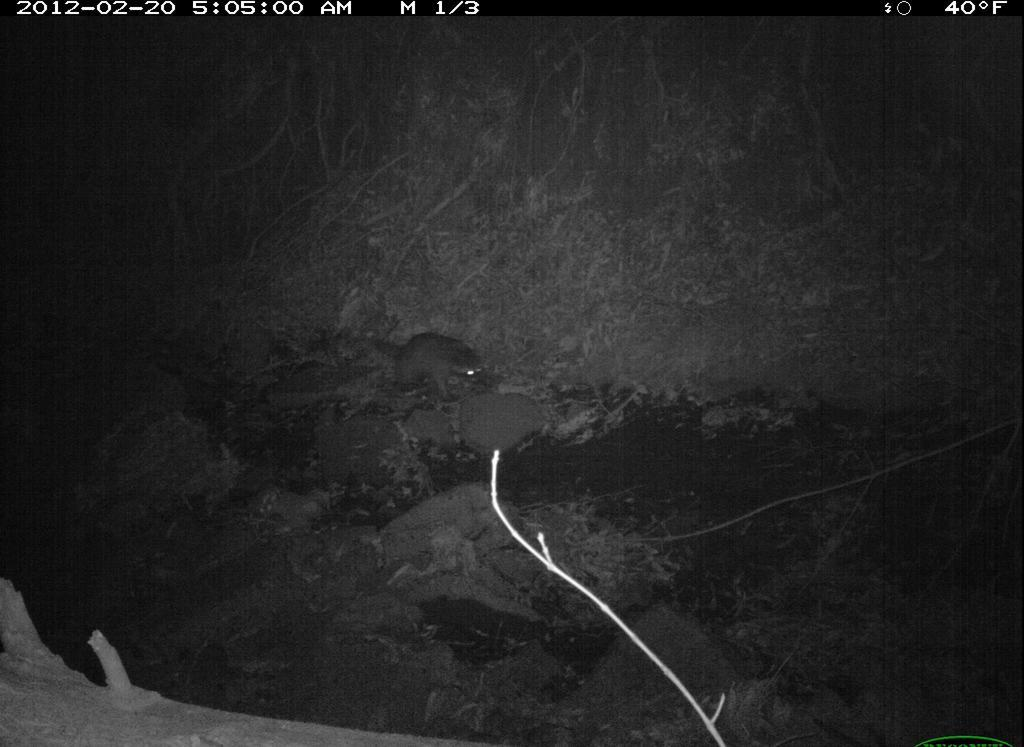raccoon: (363, 315, 504, 414)
